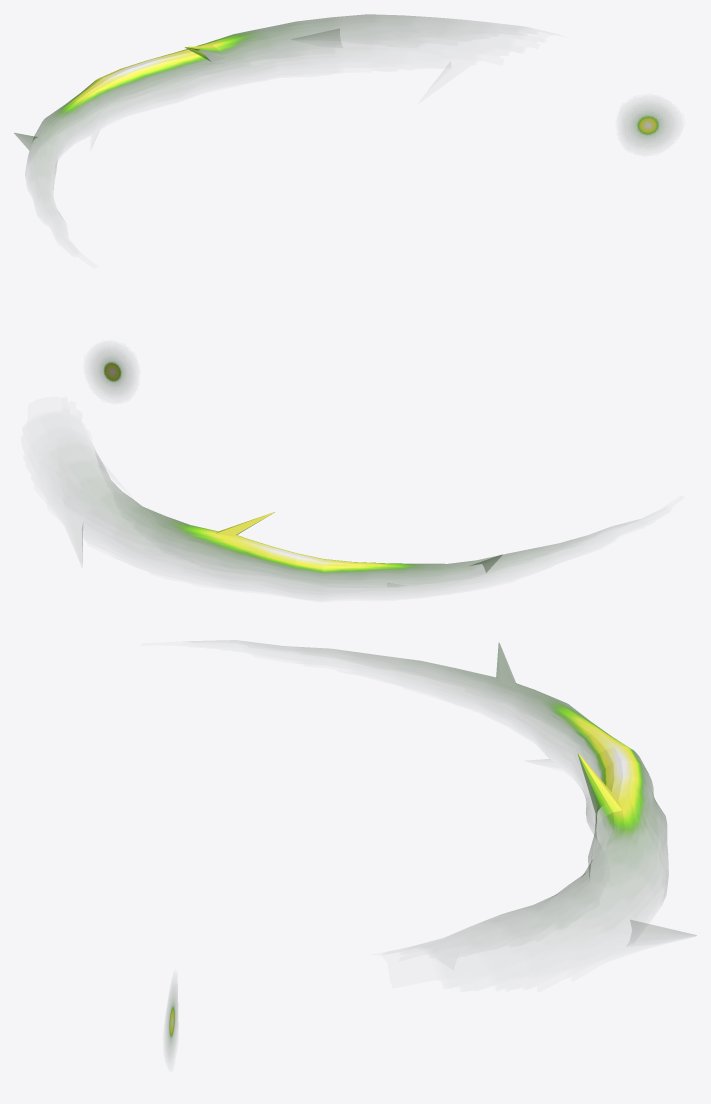
Rendered from 0120_QUANTENG.glb.
3 renders of one model, top to bottom at view 1: azimuth 30°, elevation 25°; view 2: azimuth 150°, elevation 25°; view 3: azimuth 270°, elevation 25°, orthographic. The views are drawn at different scales.
Size of the model in its own units: 2.2 by 0.302 by 1.56.
1 material, 1 textured.
